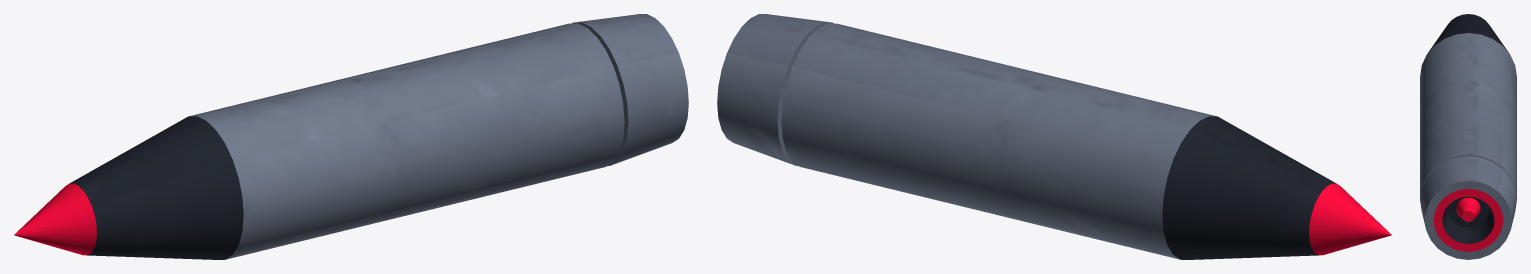
The model's file is projectile-rocket.glb.
The picture shows the model from 3 angles, left to right: view 1: azimuth 30°, elevation 25°; view 2: azimuth 150°, elevation 25°; view 3: azimuth 270°, elevation 25°; orthographic projection. The views are drawn at different scales.
Visible parts, largest first — view 1: cylinder, cylinder_taper%, engine_round, cone; view 2: cylinder, cylinder_taper%, engine_round, cone; view 3: cylinder, engine_round, cylinder_taper%.
Part boxes in pixels (x1,y1,x2,y2): cylinder: [190, 23, 624, 259]; cylinder_taper%: [69, 116, 243, 259]; engine_round: [572, 14, 688, 165]; cone: [14, 183, 96, 255]; cylinder: [781, 23, 1215, 259]; cylinder_taper%: [1162, 116, 1336, 259]; engine_round: [717, 14, 833, 165]; cone: [1309, 183, 1391, 255]; cylinder: [1420, 33, 1516, 198]; engine_round: [1420, 156, 1516, 259]; cylinder_taper%: [1428, 14, 1508, 52].
Bounding box in the file's own units: 0.2058 × 0.0412 × 0.0412.
6 materials, 4 textured.
